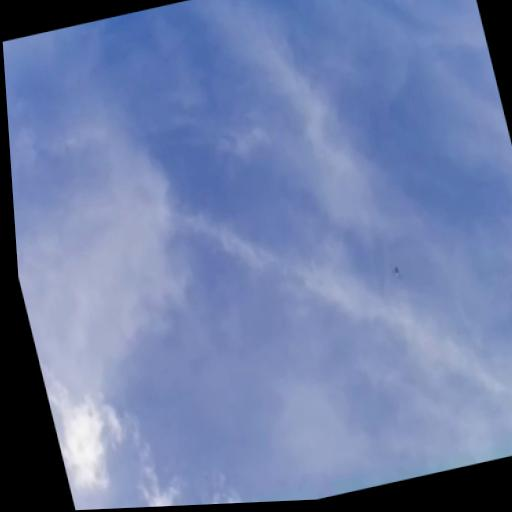drones: (386, 258, 406, 284)
